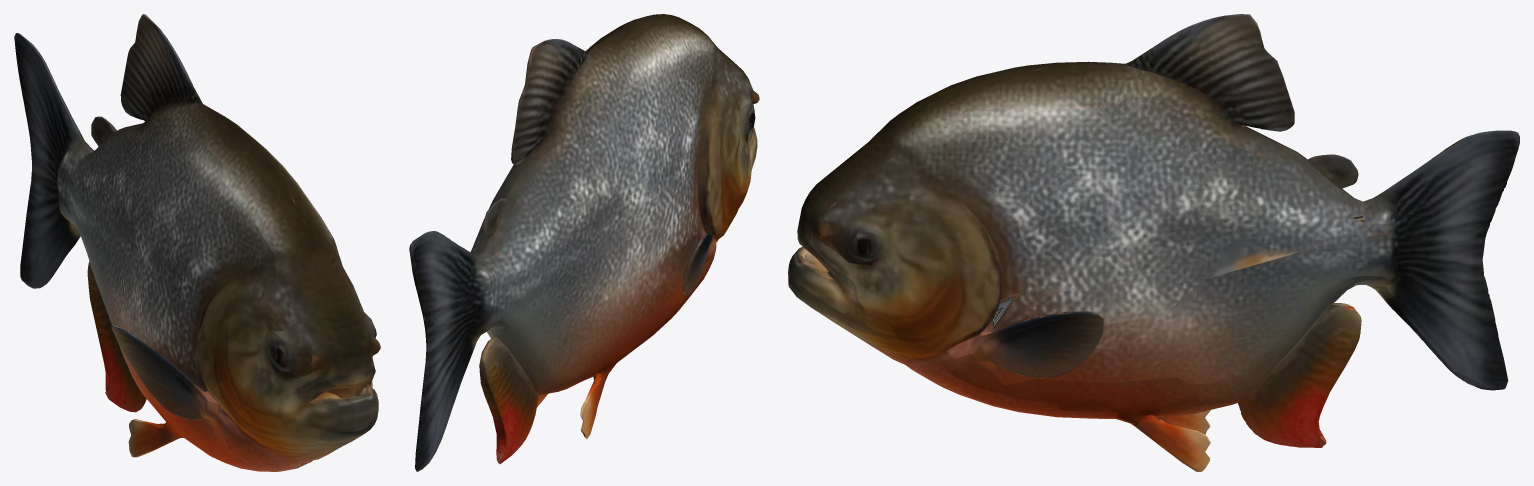
File: piranha.glb
3 renders of one model, left to right at view 1: azimuth 30°, elevation 25°; view 2: azimuth 150°, elevation 25°; view 3: azimuth 270°, elevation 25°, orthographic. The views are drawn at different scales.
Visible parts, largest first — view 1: world; view 2: world; view 3: world.
Boxes of the visible parts, x1,y1,x2,y2 form: world: (14, 14, 380, 471); world: (409, 14, 759, 471); world: (788, 14, 1519, 471).
Bounding box in the file's own units: 0.3423 × 0.6665 × 1.
1 material, 1 textured.
